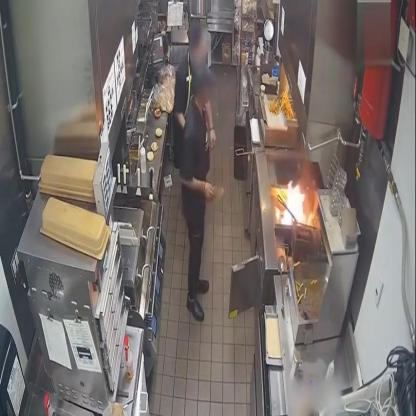fire: (277, 178, 313, 228)
